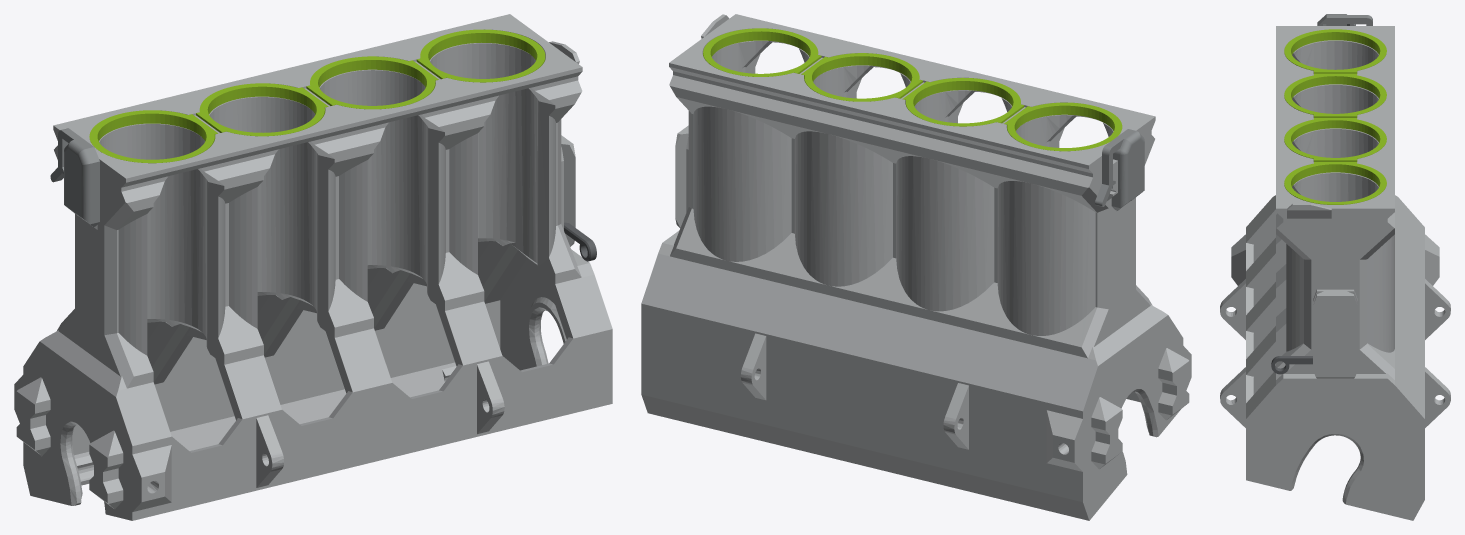
The model's file is thân máy.glb.
3 renders of one model, left to right at view 1: azimuth 30°, elevation 25°; view 2: azimuth 150°, elevation 25°; view 3: azimuth 270°, elevation 25°, orthographic. The views are drawn at different scales.
Parts seen in each view (by area): view 1: Mesh_Mesh_head_geo.001_lambert2SG.001; view 2: Mesh_Mesh_head_geo.001_lambert2SG.001; view 3: Mesh_Mesh_head_geo.001_lambert2SG.001.
Part boxes in pixels (x1=…): Mesh_Mesh_head_geo.001_lambert2SG.001: x1=14, y1=14, x2=612, y2=520; Mesh_Mesh_head_geo.001_lambert2SG.001: x1=641, y1=14, x2=1191, y2=520; Mesh_Mesh_head_geo.001_lambert2SG.001: x1=1220, y1=14, x2=1450, y2=520.
Bounding box in the file's own units: 0.127 × 0.0934 × 0.062.
